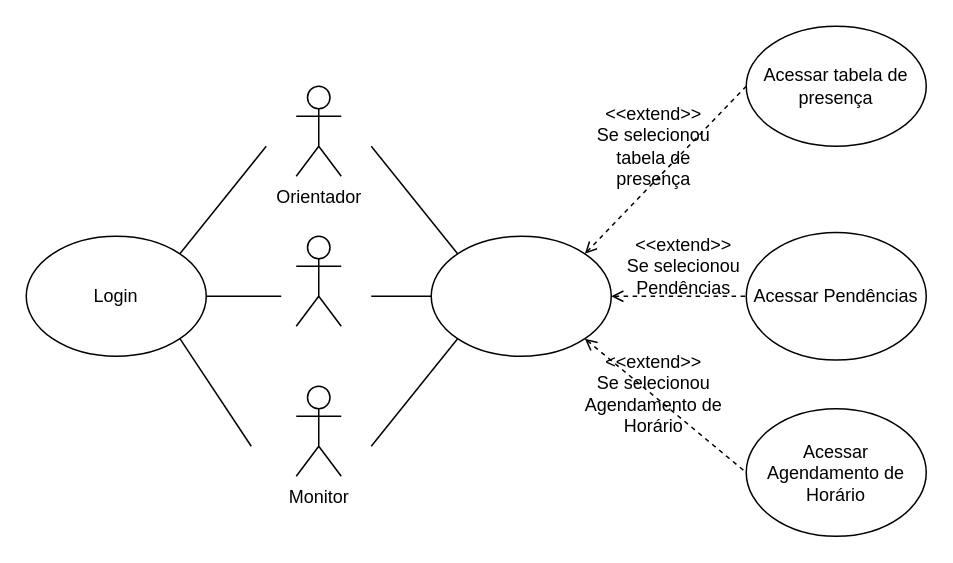
Image size: 953x563. Some labels were removed from this diagram. Here are the shapes that lost their labels. From the top down, the centre of each, then its label:
At (318,280): "Aluno".
At (520,295): "Apresentar o conteúdo".
